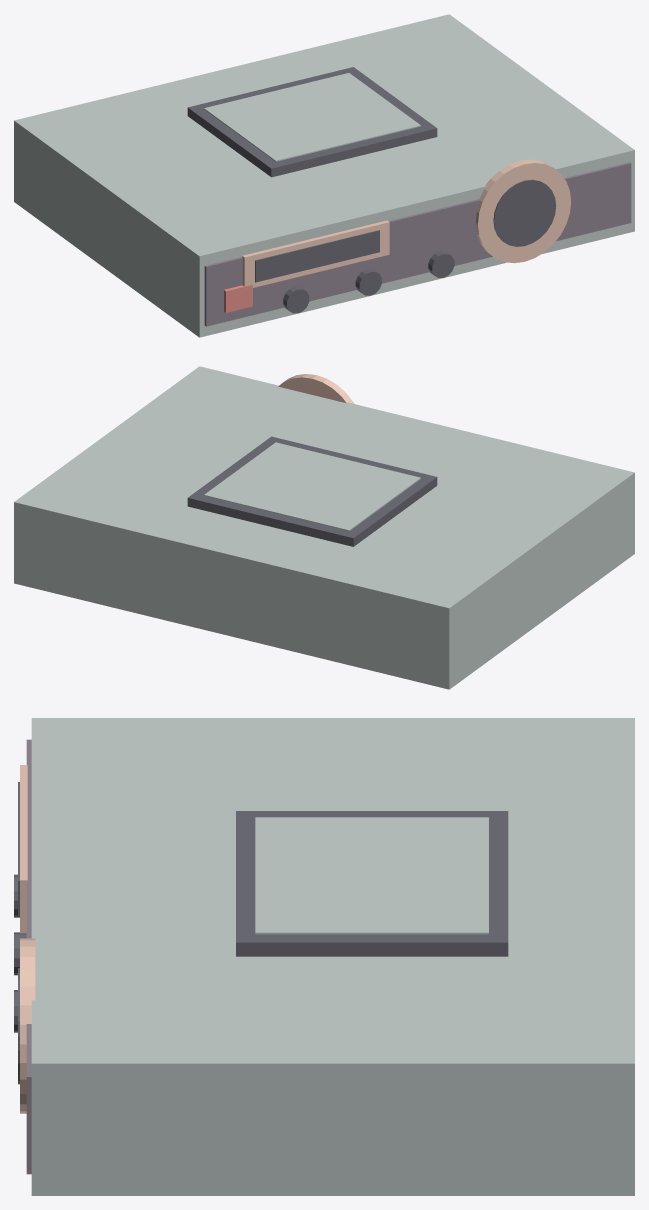
File: item_100_vcd_player.glb
3 views of the same model, one above another, from view 1: azimuth 30°, elevation 25°; view 2: azimuth 150°, elevation 25°; view 3: azimuth 270°, elevation 25° (orthographic). The views are drawn at different scales.
Parts seen in each view (by area): view 1: I100_Body, I100_Face, I100_LidIn, I100_TopLid, I100_Loader, I100_LoaderIn, I100_DispIn, I100_Display, I100_Badge, I100_Knob0, I100_Knob2, I100_Knob1; view 2: I100_Body, I100_LidIn, I100_TopLid, I100_Loader; view 3: I100_Body, I100_LidIn, I100_TopLid, I100_Face, I100_Loader, I100_Display.
Boxes of the visible parts, <box> form: I100_Body: <box>14,14,634,337</box>; I100_Face: <box>204,162,631,326</box>; I100_LidIn: <box>204,73,420,161</box>; I100_TopLid: <box>187,67,437,177</box>; I100_Loader: <box>476,159,571,263</box>; I100_LoaderIn: <box>493,179,556,246</box>; I100_DispIn: <box>255,230,379,282</box>; I100_Display: <box>242,220,389,287</box>; I100_Badge: <box>224,285,252,312</box>; I100_Knob0: <box>283,286,309,313</box>; I100_Knob2: <box>428,251,454,277</box>; I100_Knob1: <box>355,269,381,295</box>; I100_Body: <box>14,366,634,689</box>; I100_LidIn: <box>204,442,420,531</box>; I100_TopLid: <box>187,436,437,546</box>; I100_Loader: <box>278,374,354,403</box>; I100_Body: <box>31,718,634,1195</box>; I100_LidIn: <box>255,817,488,934</box>; I100_TopLid: <box>236,811,508,956</box>; I100_Face: <box>26,739,31,1174</box>; I100_Loader: <box>20,938,35,1113</box>; I100_Display: <box>20,765,27,933</box>.
Bounding box in the file's own units: 0.42 × 0.1 × 0.319.
